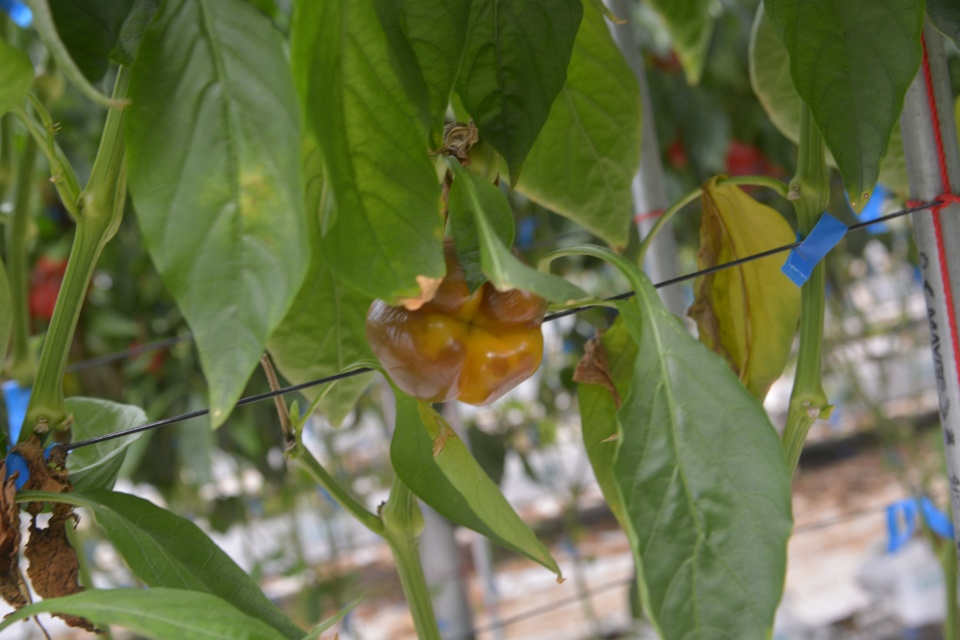fruit: (363, 234, 550, 408)
